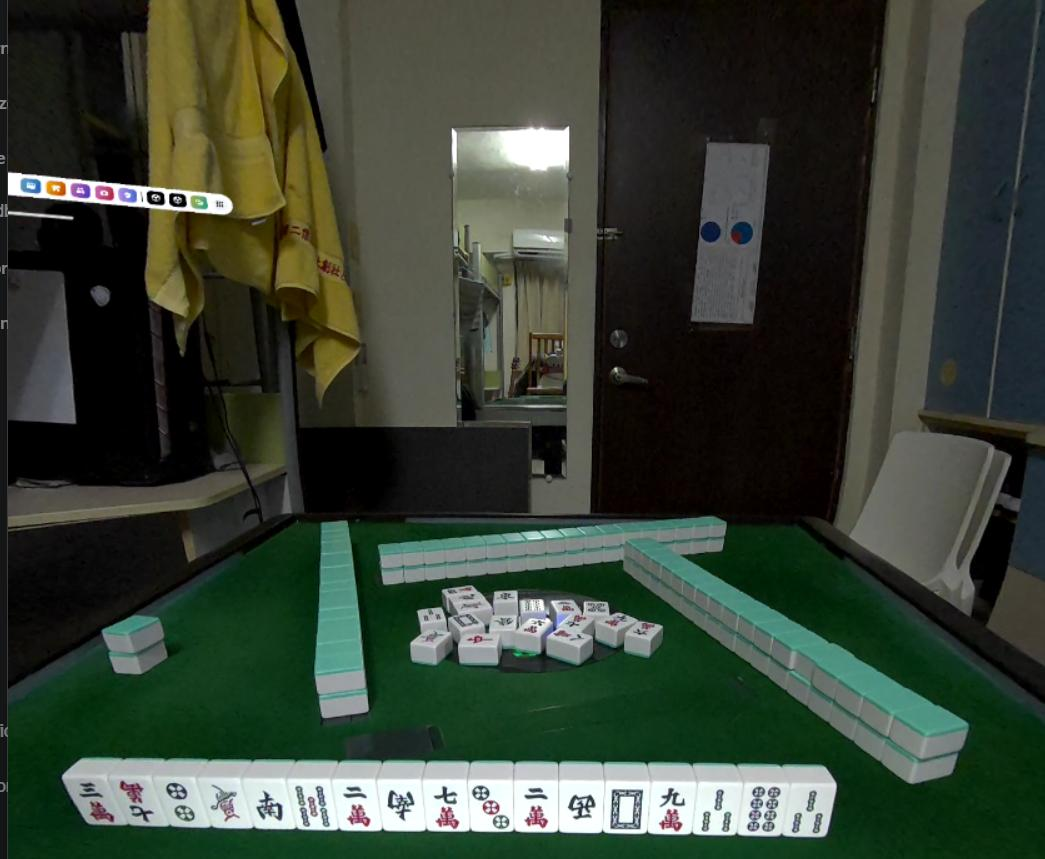mahjong: (234, 773, 290, 837), (420, 777, 465, 846), (60, 776, 116, 829), (113, 769, 161, 830), (786, 776, 834, 835), (603, 776, 646, 841), (747, 777, 791, 840), (469, 776, 513, 838), (333, 779, 379, 837), (374, 776, 422, 831), (517, 779, 559, 840), (294, 775, 338, 831), (201, 773, 244, 830), (160, 775, 202, 833), (699, 780, 737, 837), (656, 786, 700, 835), (560, 782, 596, 837)
